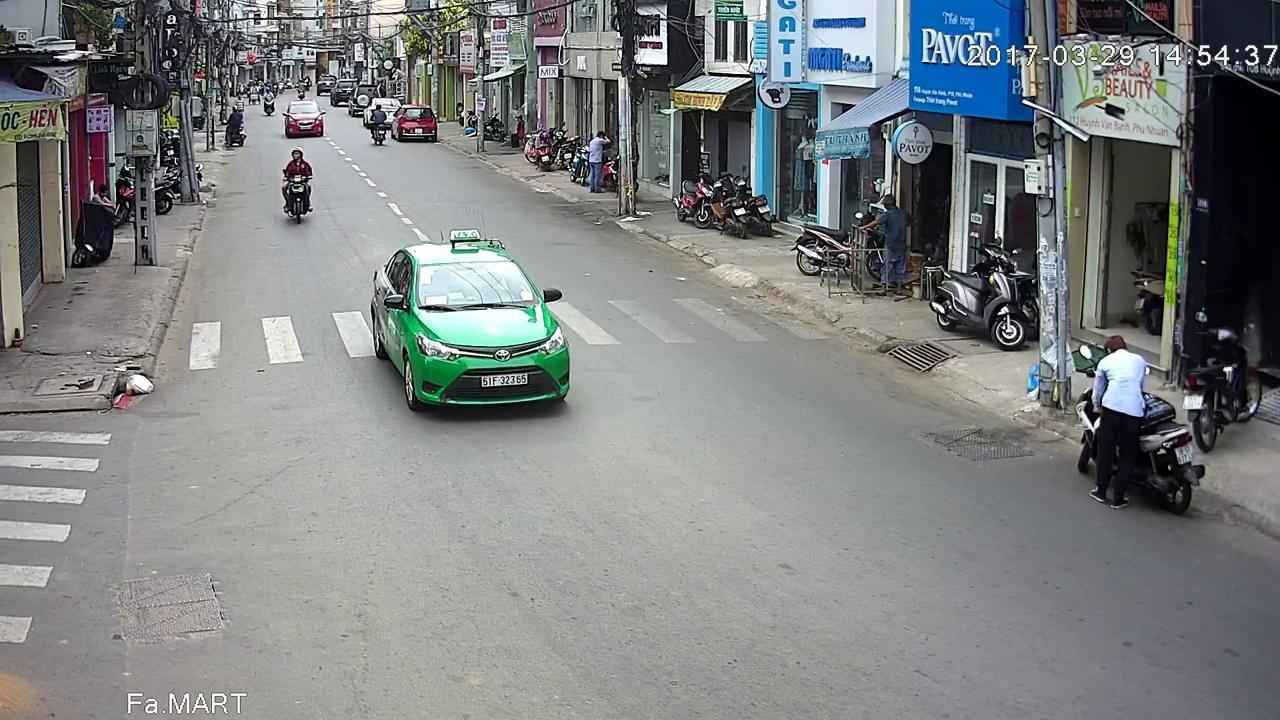xe hoi: (367, 218, 574, 417), (392, 103, 439, 142), (286, 101, 329, 137)
xe may: (1073, 349, 1208, 522), (282, 149, 318, 229), (226, 106, 250, 148), (367, 101, 387, 145)
